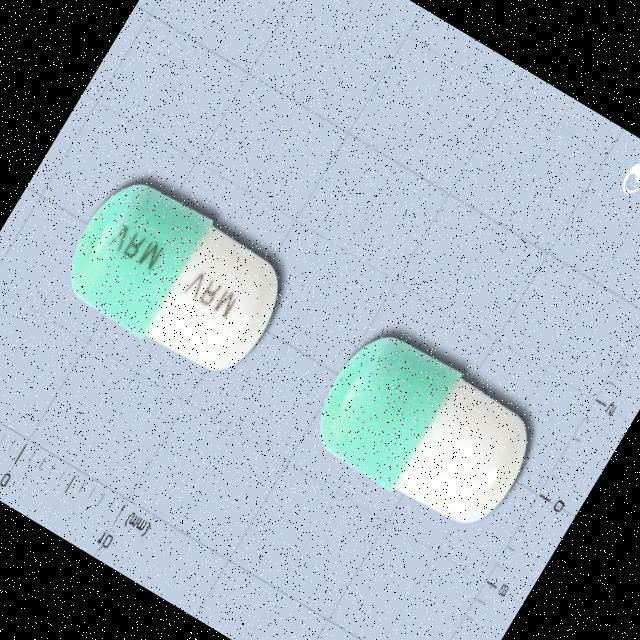Viramid Cap: (50, 164, 302, 396), (300, 316, 551, 548)
